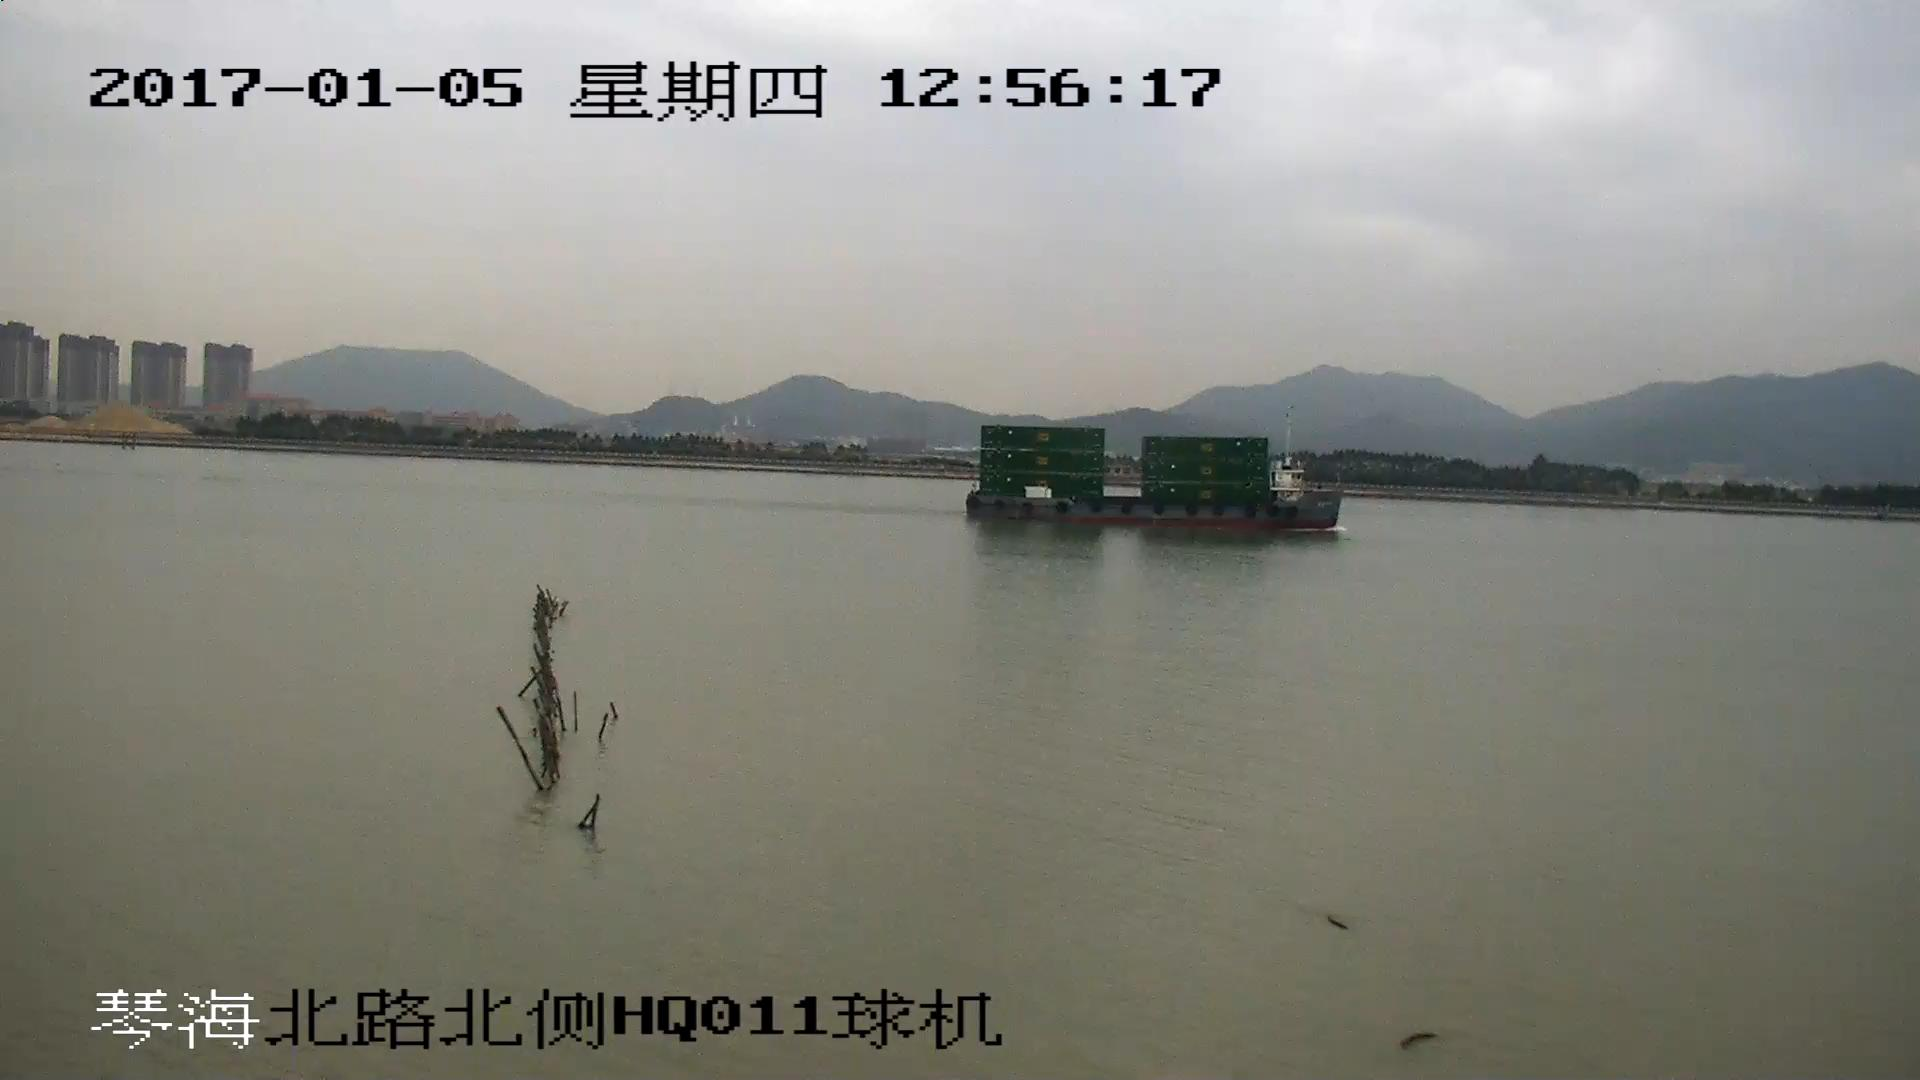container ship: (964, 426, 1343, 529)
